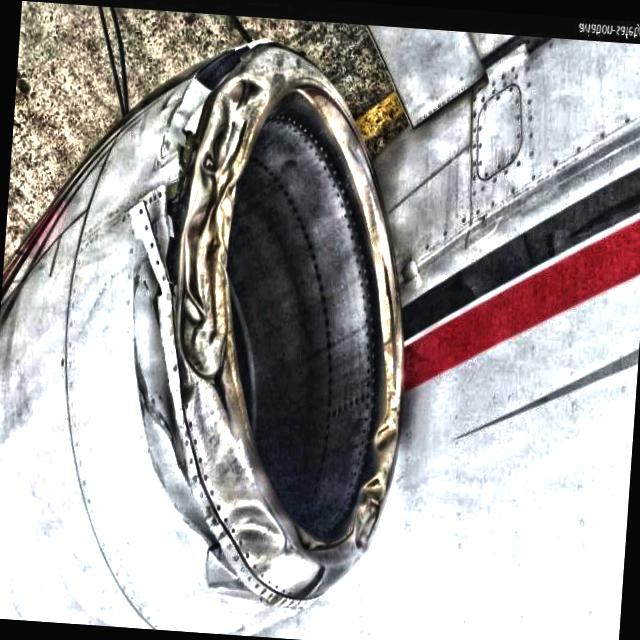dent: (174, 83, 268, 375), (349, 420, 401, 554), (222, 500, 290, 558)
